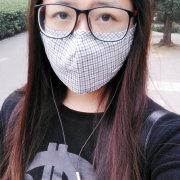OK: (47, 6, 140, 99)
